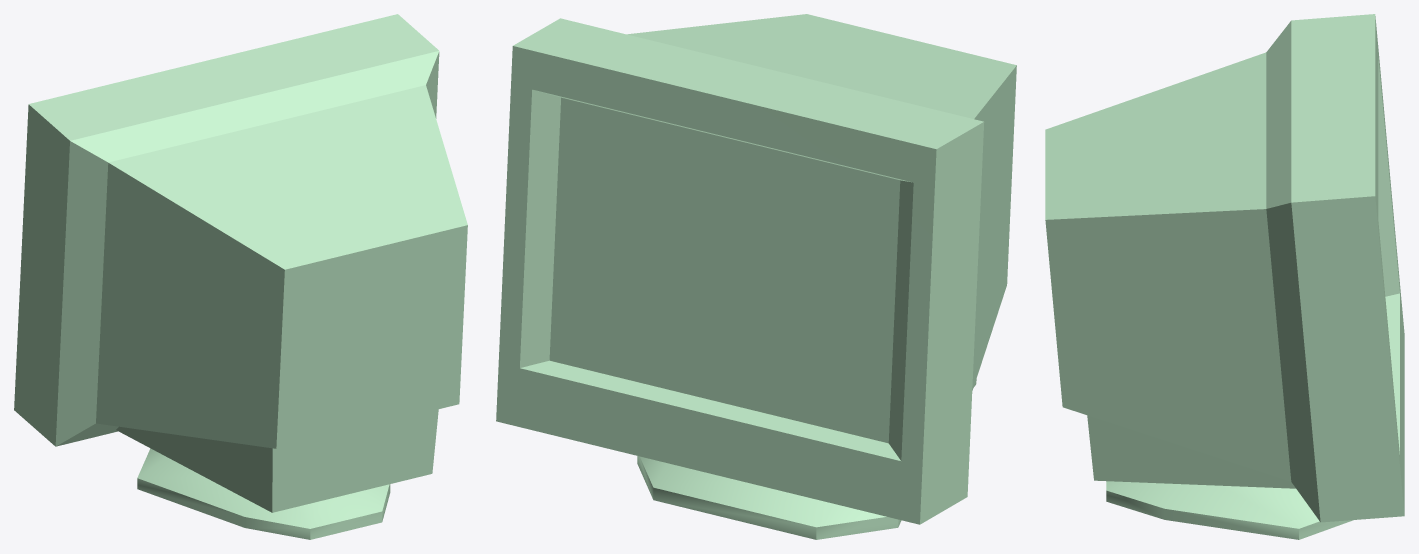
Rendered from pcmonitor1.fbx.
3 renders of one model, left to right at view 1: azimuth 30°, elevation 25°; view 2: azimuth 150°, elevation 25°; view 3: azimuth 270°, elevation 25°, orthographic. The views are drawn at different scales.
Visible parts, largest first — view 1: monitor; view 2: monitor; view 3: monitor.
Part boxes in pixels (x1=…): monitor: x1=14, y1=14, x2=467, y2=539; monitor: x1=496, y1=14, x2=1016, y2=539; monitor: x1=1045, y1=14, x2=1404, y2=539.
Size of the model in its own units: 82.71 by 80.19 by 68.91.
